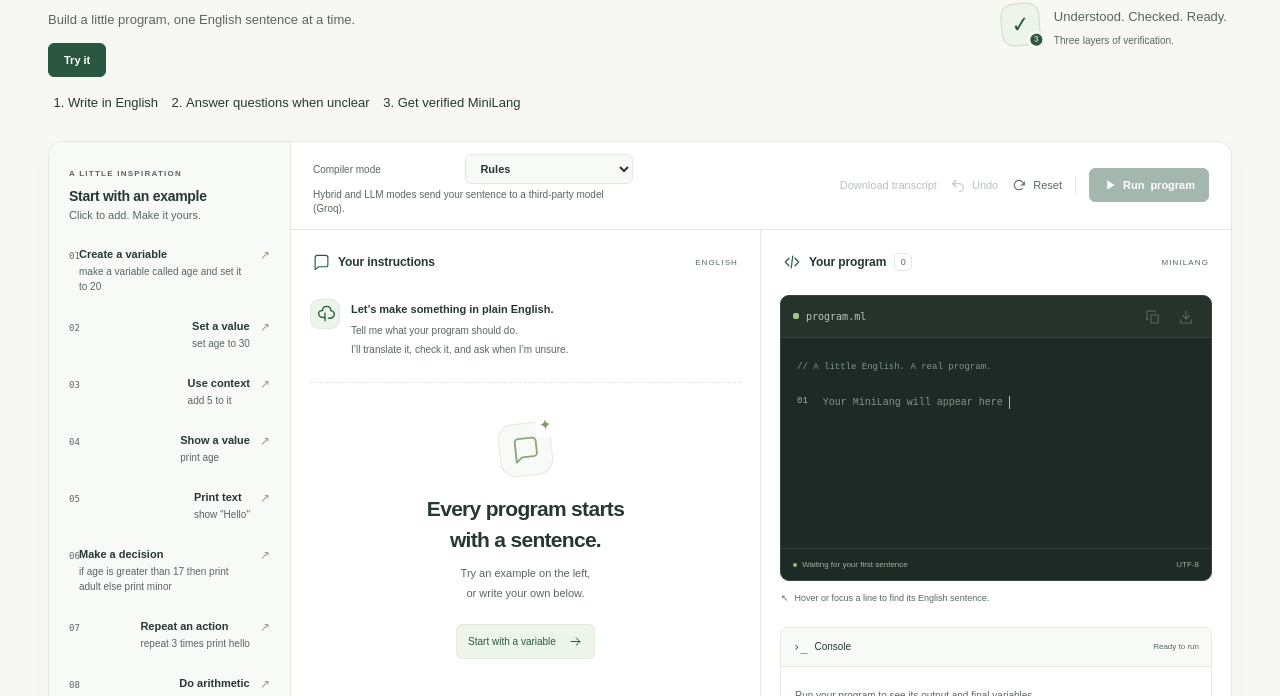
Test: backend decision UI › shows configured LLM health, amber W513 reading and a polite warning toast/trace
The width and height of the screenshot is (1280, 696).
Later steps or results of the test are not shown.
(page scrolled)
Select "LLM" in the dropdown labelled "Compiler mode" at (549, 169), box [465,154,633,184]
(page scrolled)
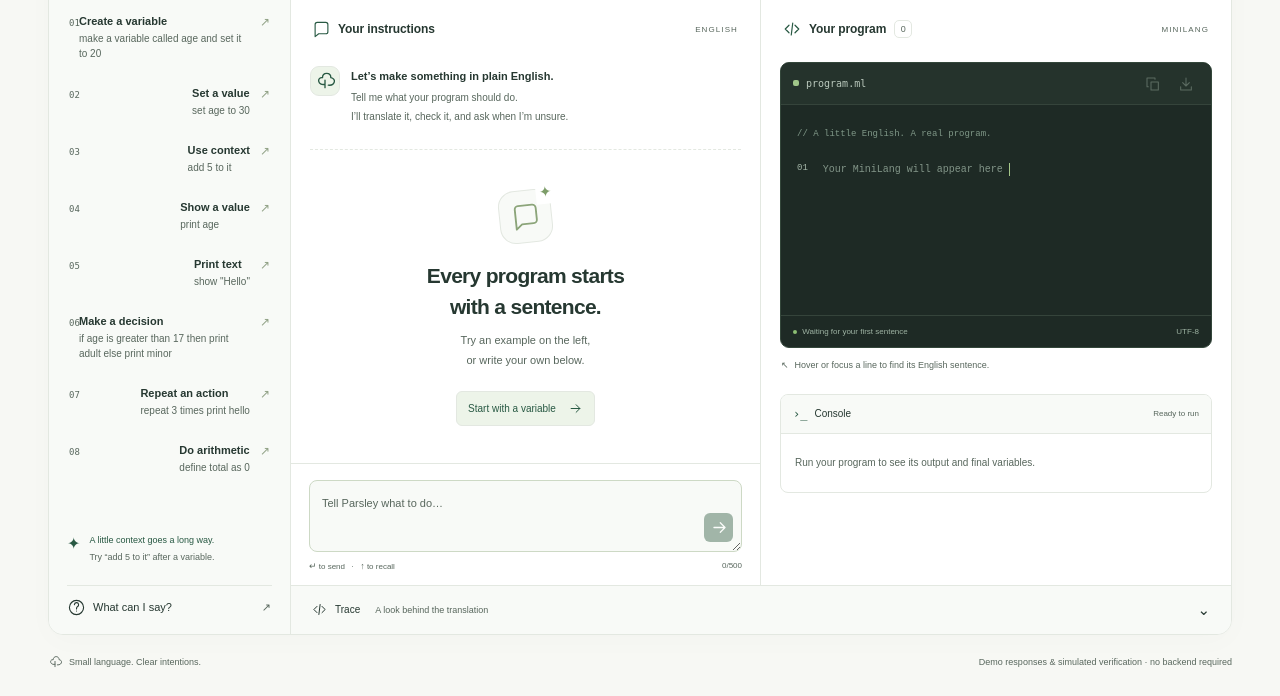
Type "set x to 10" into the text box named "English sentence".
click(526, 516); type("set x to 10")  # box [309,480,742,552]
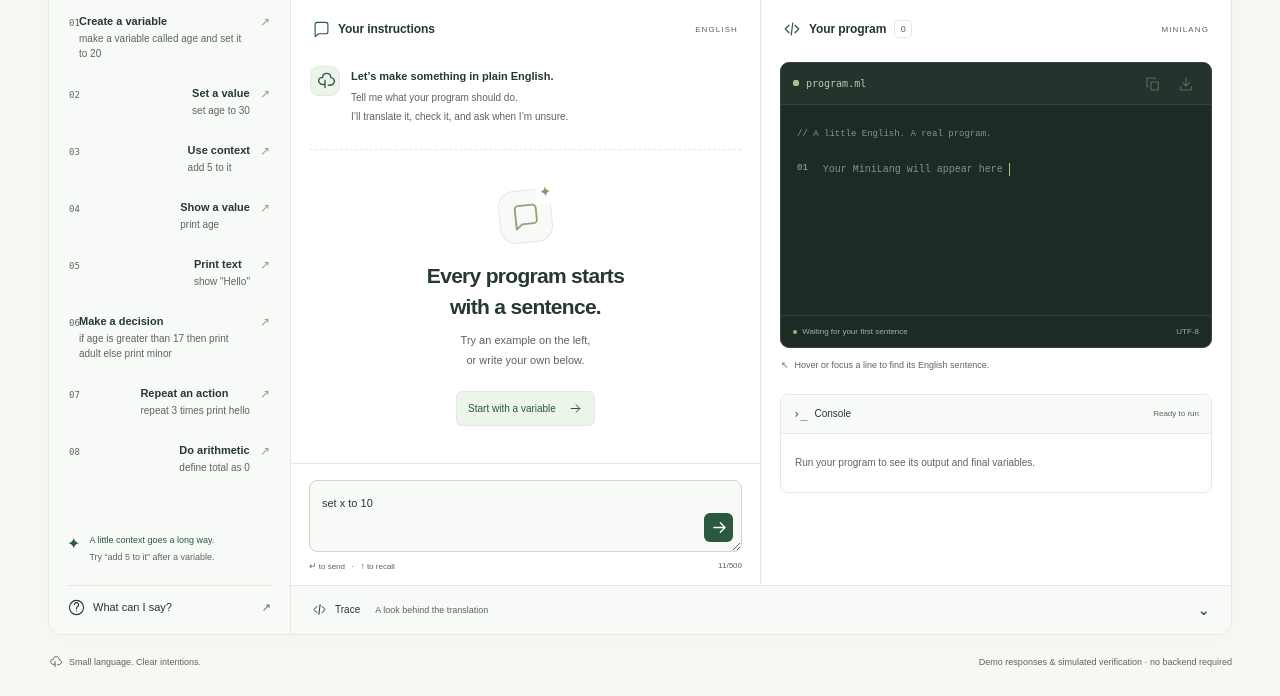
Press Enter in the text box named "English sentence", box [309,480,742,552]
(page scrolled)
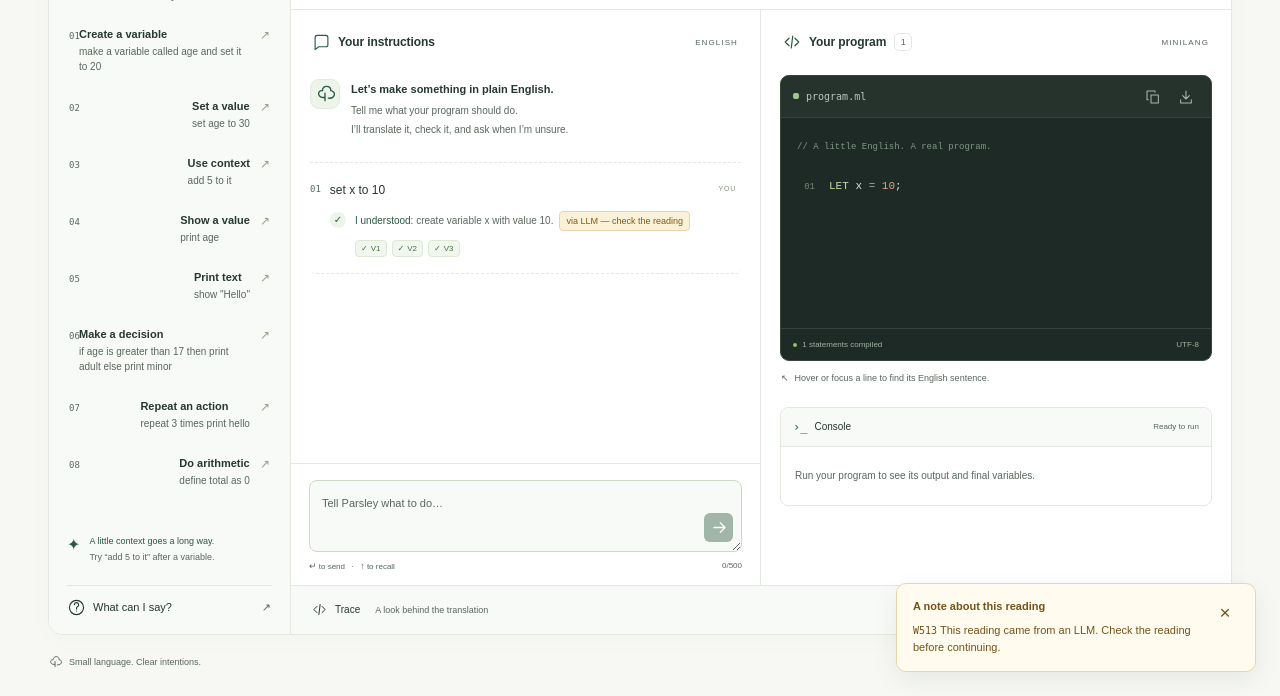
Check: the element that starts with "I understood:" is shown, box [355,215,413,226]
Check: the message named "Compiler warnings" shows "W513", box [913,625,937,636]
